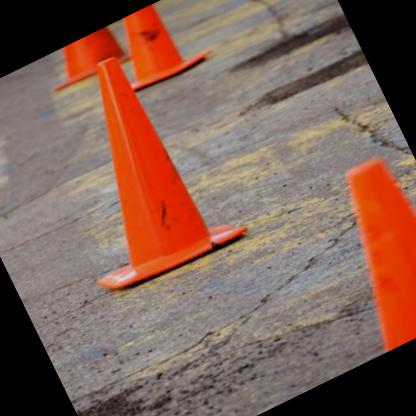cone: (10, 38, 246, 302), (310, 144, 415, 351), (98, 0, 215, 98), (36, 20, 138, 98)
